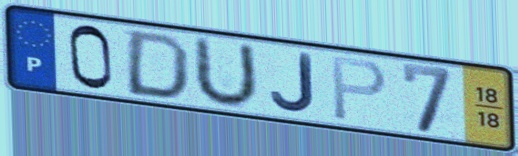0: (66, 22, 114, 92)
7: (399, 60, 456, 135)
D: (122, 28, 193, 102)
J: (268, 51, 319, 116)
P: (329, 54, 390, 123)
U: (191, 34, 261, 111)
